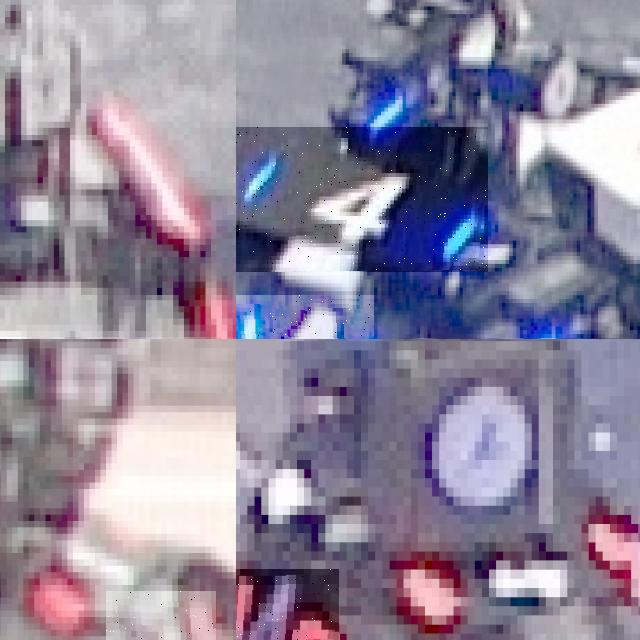B4: (236, 127, 487, 271), (236, 295, 374, 339)
R1: (105, 591, 216, 640)
R4: (236, 569, 339, 640)
